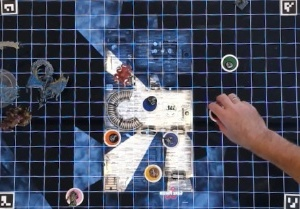blue: (141, 95, 160, 111)
green: (220, 53, 243, 74)
orange: (104, 128, 123, 147)
pink: (62, 186, 85, 207)
red: (209, 102, 226, 121)
violet: (162, 130, 180, 149)
yellow: (141, 161, 165, 185)
